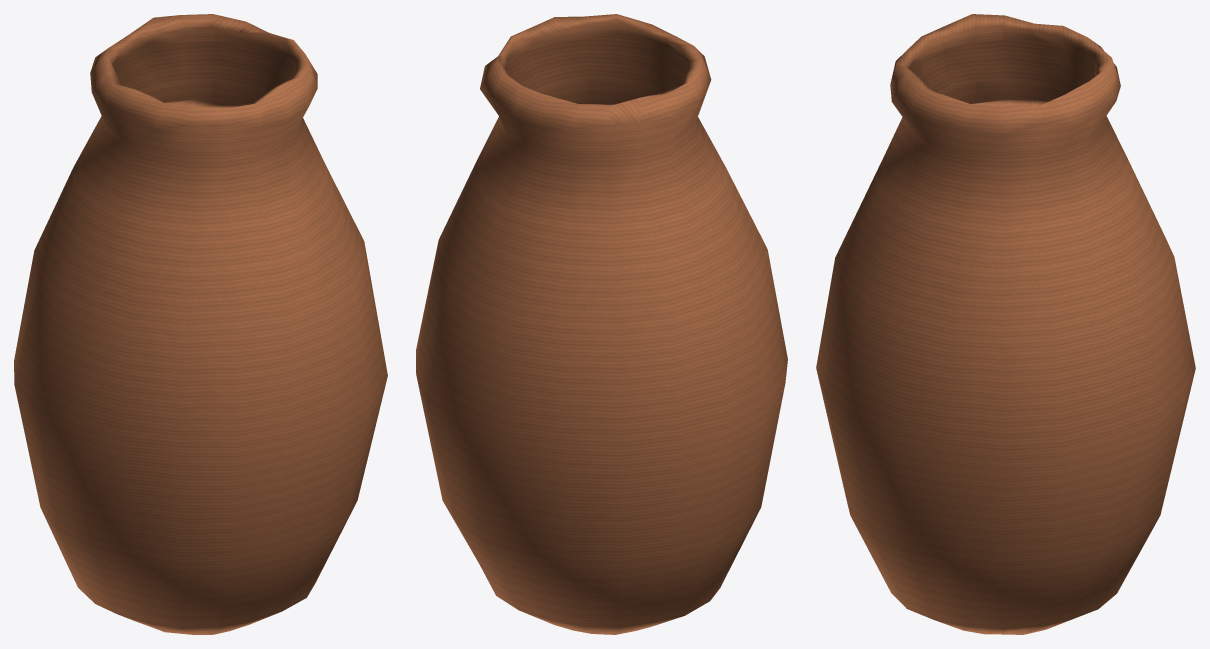
Rendered from jar.glb.
3 renders of one model, left to right at view 1: azimuth 30°, elevation 25°; view 2: azimuth 150°, elevation 25°; view 3: azimuth 270°, elevation 25°, orthographic.
Parts seen in each view (by area): view 1: jar; view 2: jar; view 3: jar.
Boxes of the visible parts, <box> form: jar: <box>14,14,387,634</box>; jar: <box>416,14,787,634</box>; jar: <box>816,14,1195,634</box>.
Size of the model in its own units: 0.4946 by 0.7867 by 0.4888.
Materials: 1 (1 with a texture image).
